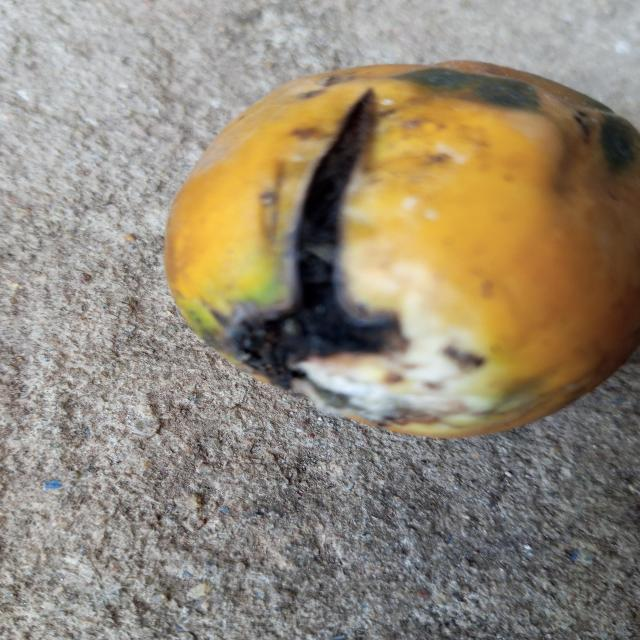damaged: (165, 63, 638, 437)
